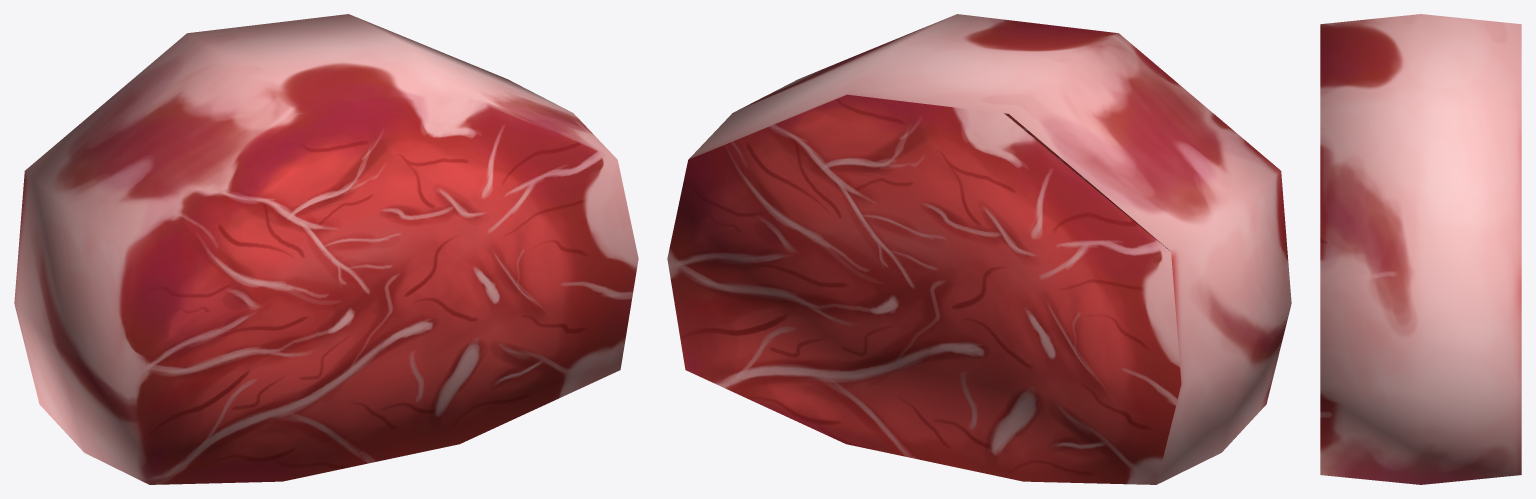
Rendered from beef_shin_shank.fbx.
3 views of the same model, side by side, from view 1: azimuth 30°, elevation 25°; view 2: azimuth 150°, elevation 25°; view 3: azimuth 270°, elevation 25° (orthographic). The views are drawn at different scales.
Parts seen in each view (by area): view 1: beef_shin_shank; view 2: beef_shin_shank; view 3: beef_shin_shank.
Boxes of the visible parts, left/top/right/bottom form: beef_shin_shank: left=14, top=14, right=638, bottom=484; beef_shin_shank: left=667, top=14, right=1291, bottom=484; beef_shin_shank: left=1320, top=14, right=1521, bottom=484.
Bounding box in the file's own units: 82.46 × 56.71 × 29.3.
